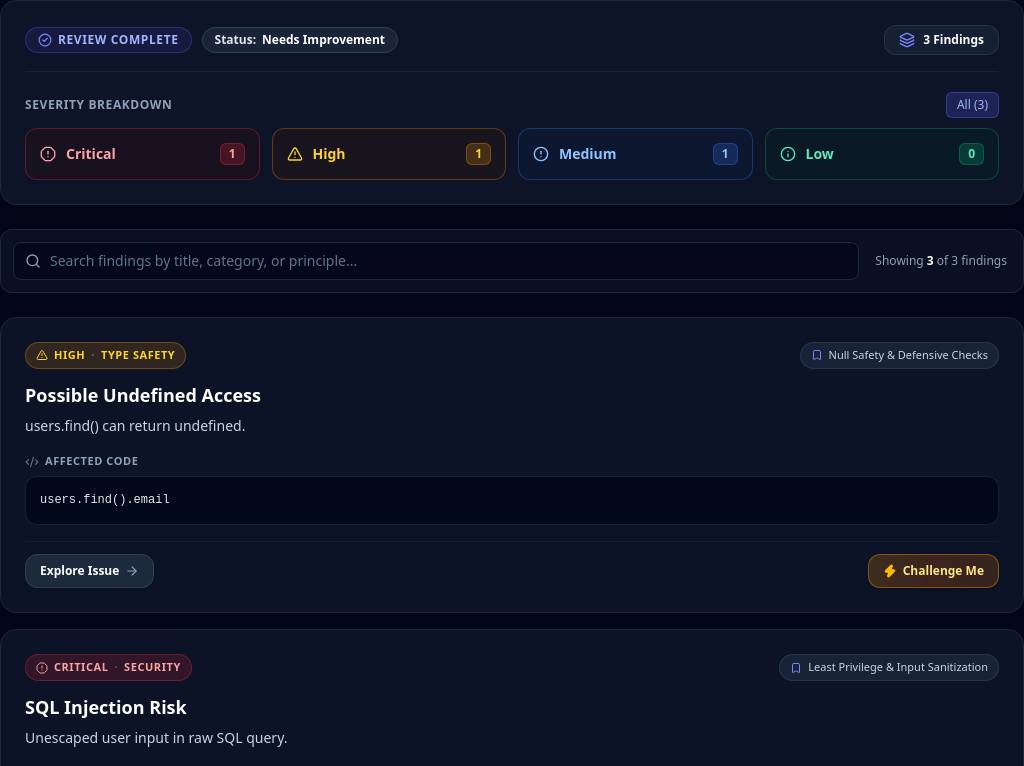
FindingsList component › shows helpful empty state when no findings match selected severity and allows resetting filter
The width and height of the screenshot is (1024, 766).
# Click 'Low' filter (which has 0 findings)
Click the button "Low 0" at (882, 154), box [764,128,999,180]
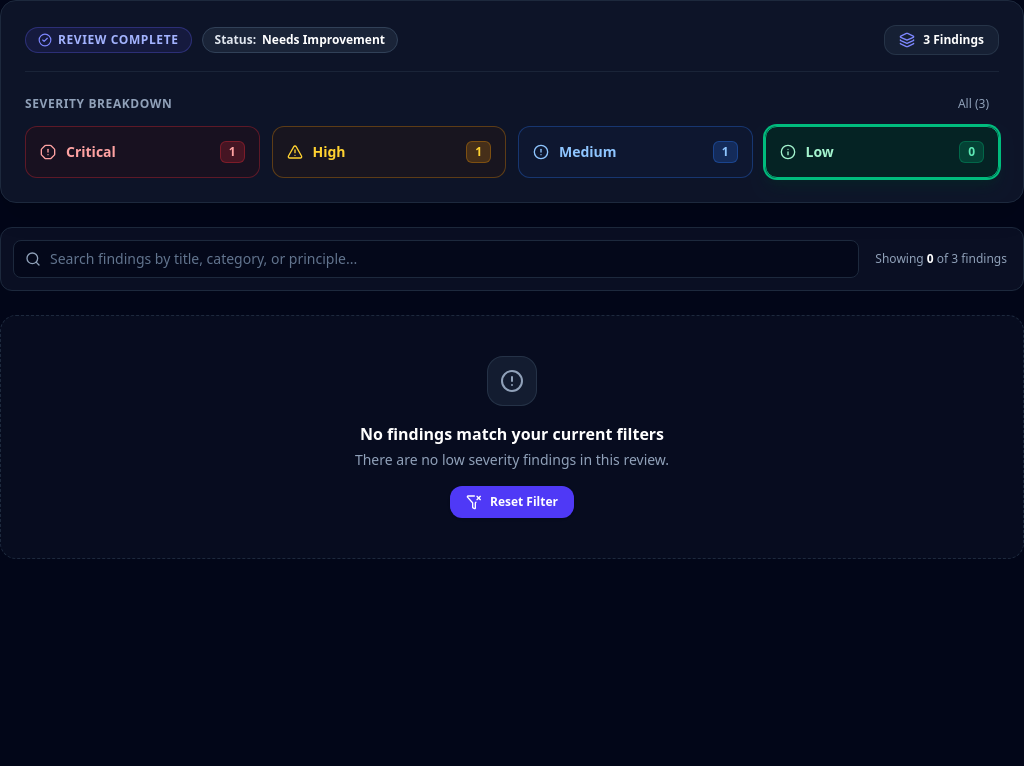
Result: the heading "No findings match your current filters" is shown at [360,423,664,445]
Click the button "Reset Filter" at (512, 502), box [450,486,574,518]
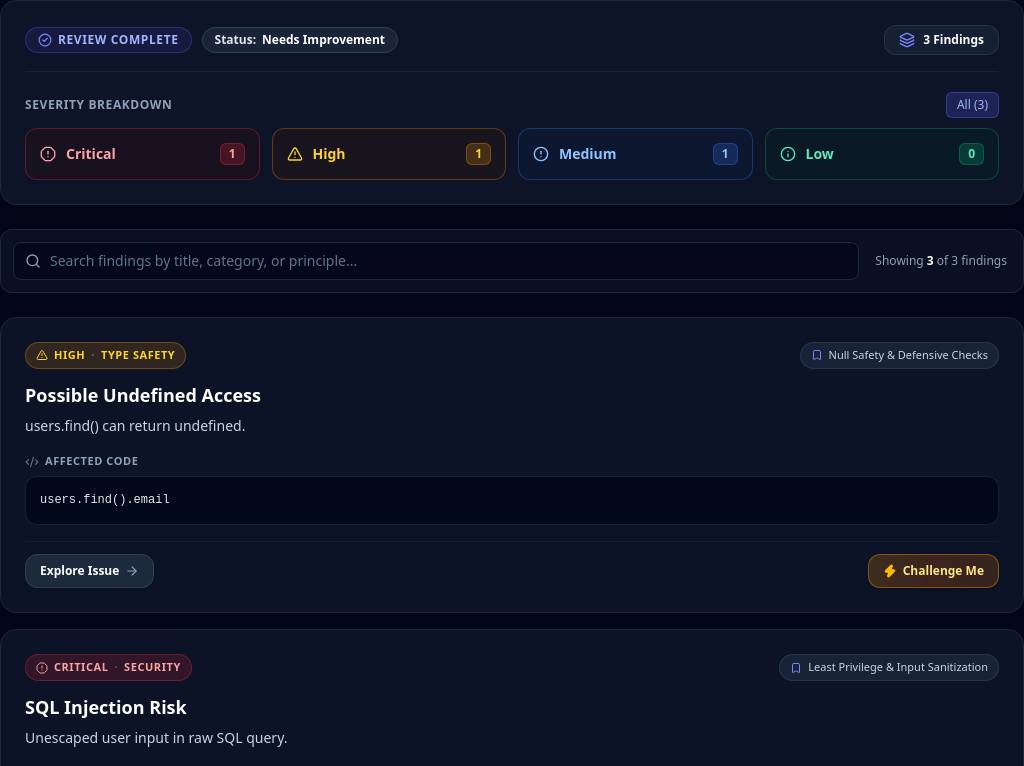
Result: the heading "Possible Undefined Access" is shown at [25,382,261,406]
Result: the heading "SQL Injection Risk" is shown at [25,695,187,719]
